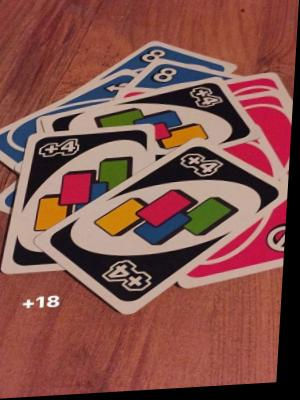num_8: (153, 64, 180, 88)
reverse: (105, 78, 135, 97)
skip: (262, 222, 289, 264)
wild-4: (31, 99, 290, 336)
